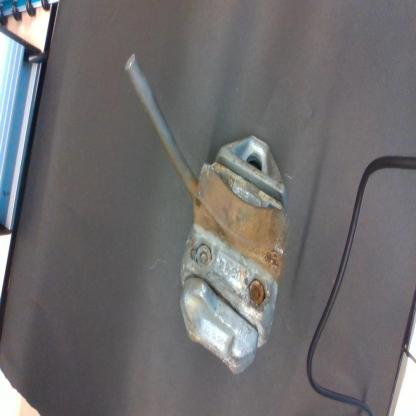Twistlock: (121, 48, 292, 378)
